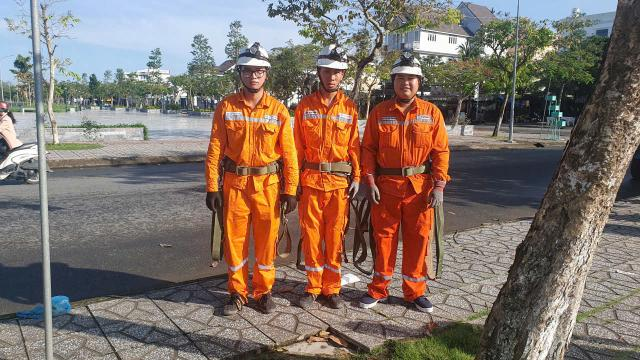gloves: (430, 178, 448, 208), (279, 189, 298, 216), (364, 175, 381, 204), (202, 188, 220, 212), (345, 179, 366, 198)
harness: (216, 153, 284, 177), (298, 155, 357, 177), (377, 160, 436, 178)
helmet: (230, 40, 276, 77), (383, 52, 430, 80), (316, 43, 352, 74)
shoes: (224, 286, 252, 316), (250, 288, 278, 314), (362, 284, 388, 311), (321, 286, 349, 310), (410, 291, 438, 313), (296, 286, 321, 309)
